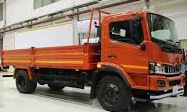truck: (1, 9, 185, 110)
